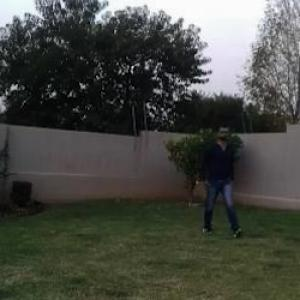follow: (199, 118, 241, 247)
